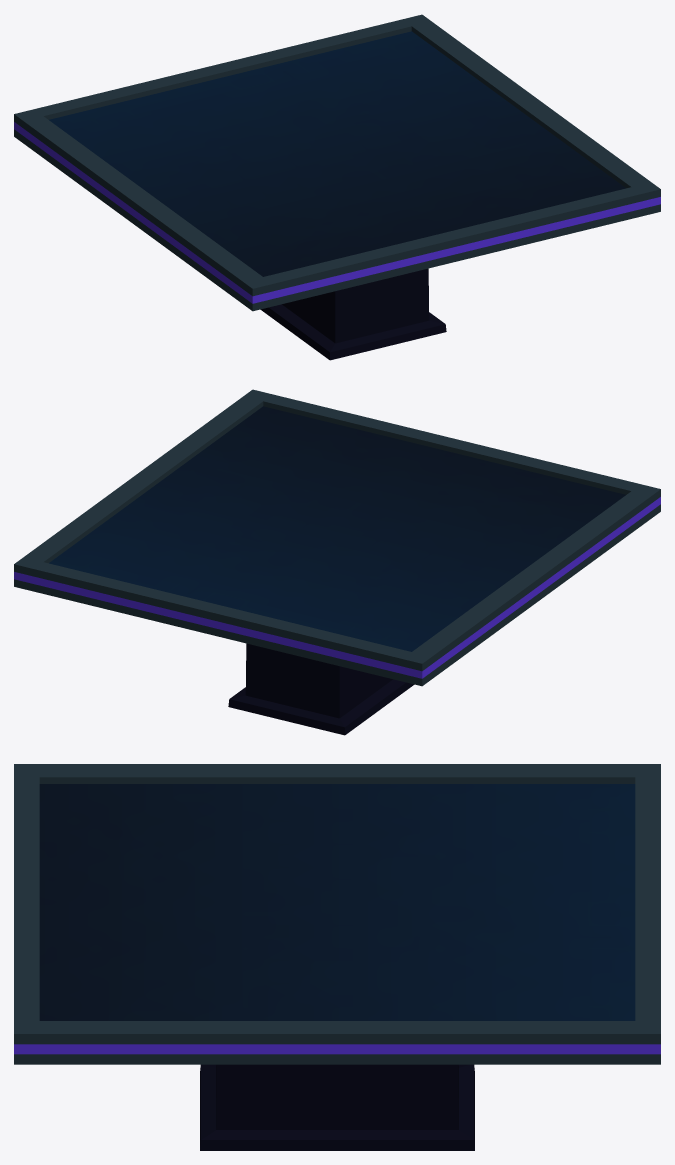
File: Fader_Table.fbx
The picture shows the model from 3 angles, top to bottom: view 1: azimuth 30°, elevation 25°; view 2: azimuth 150°, elevation 25°; view 3: azimuth 270°, elevation 25°; orthographic projection. The views are drawn at different scales.
Visible parts, largest first — view 1: Cube.000; view 2: Cube.000; view 3: Cube.000.
Part boxes in pixels (bbox=[...]): Cube.000: bbox=[14, 14, 660, 360]; Cube.000: bbox=[14, 389, 660, 735]; Cube.000: bbox=[14, 764, 660, 1150].
Size of the model in its own units: 163 by 59.96 by 165.
